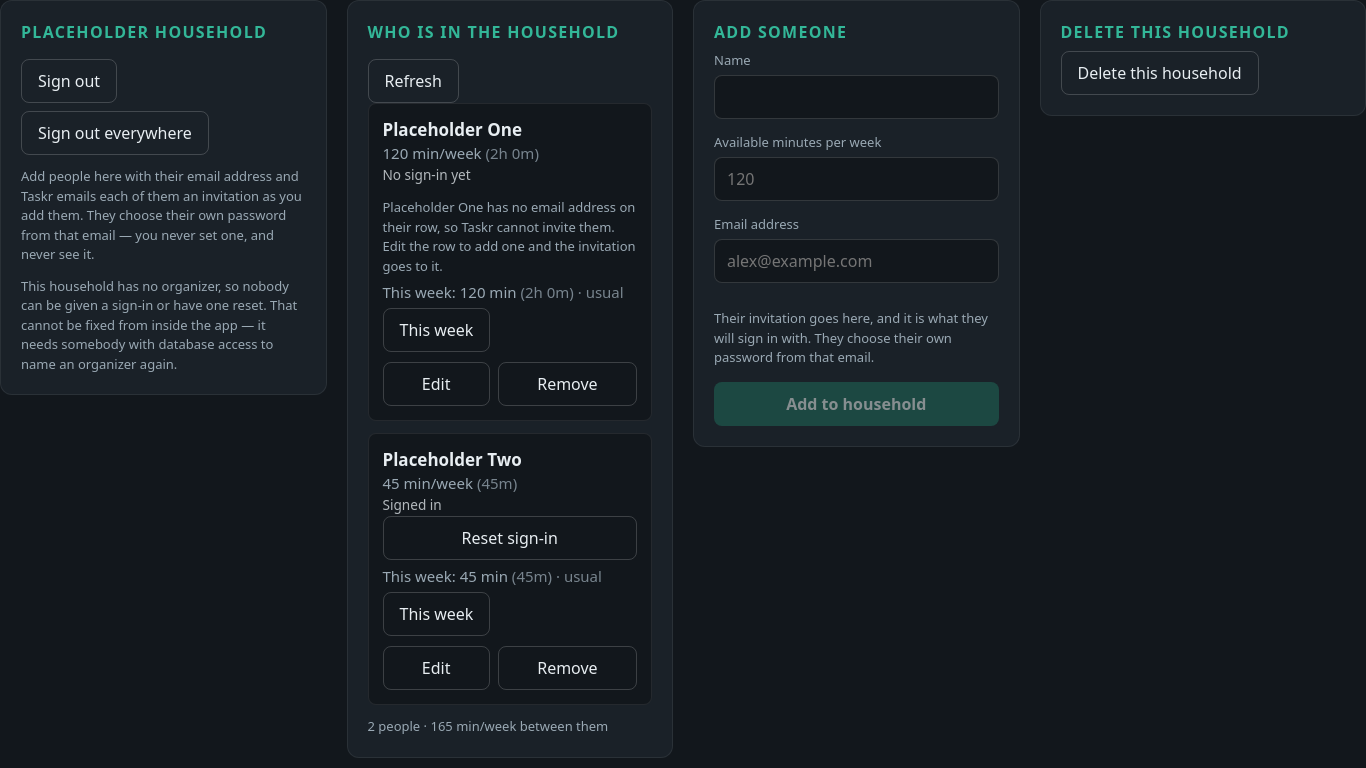
Test: deleting the household from the Who tab (#430) › backs out of the confirm without deleting
What coordinates should you click on to do the following:
click the button "Delete this household"
I would click on:
 (1160, 73)
Its box is [1060, 51, 1259, 95].
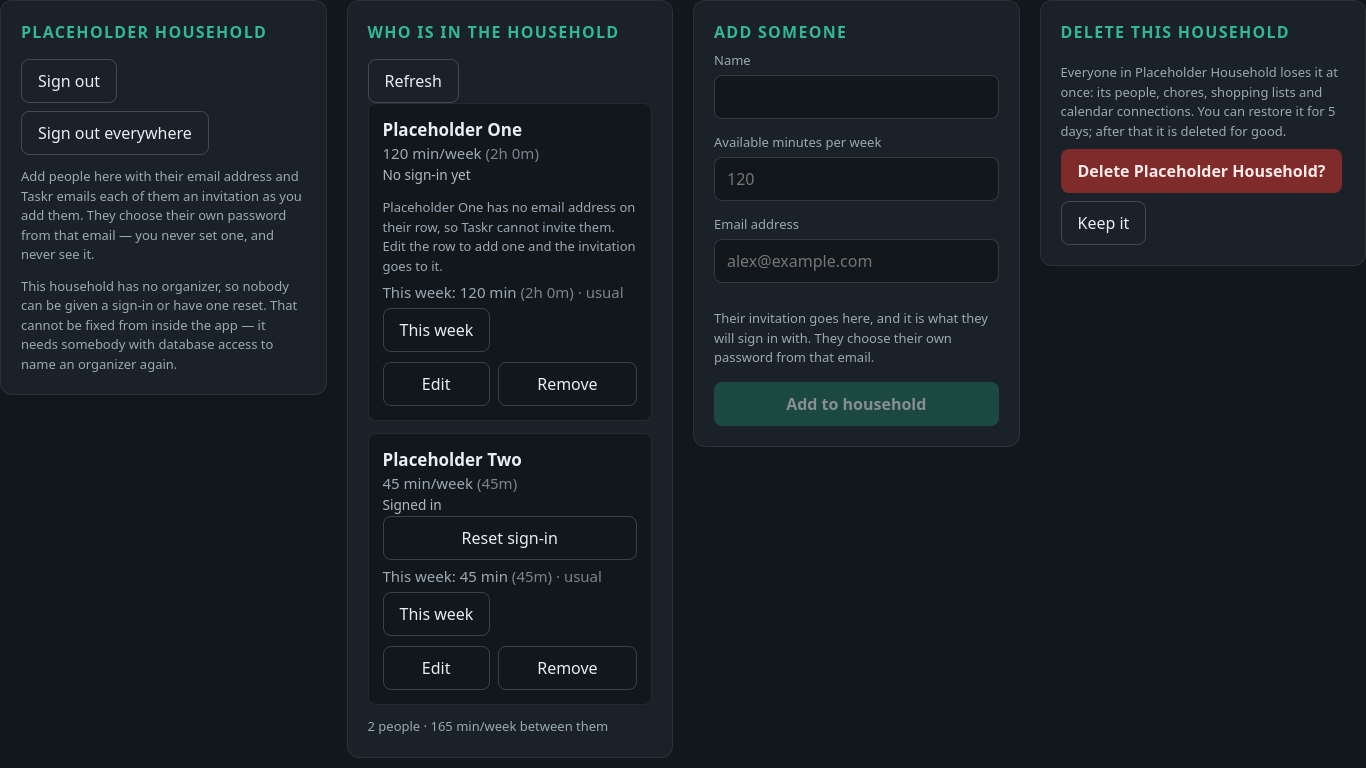
What coordinates should you click on to do the following:
click the button "Keep it"
I would click on:
 (1103, 223)
Its box is [1060, 201, 1146, 245].
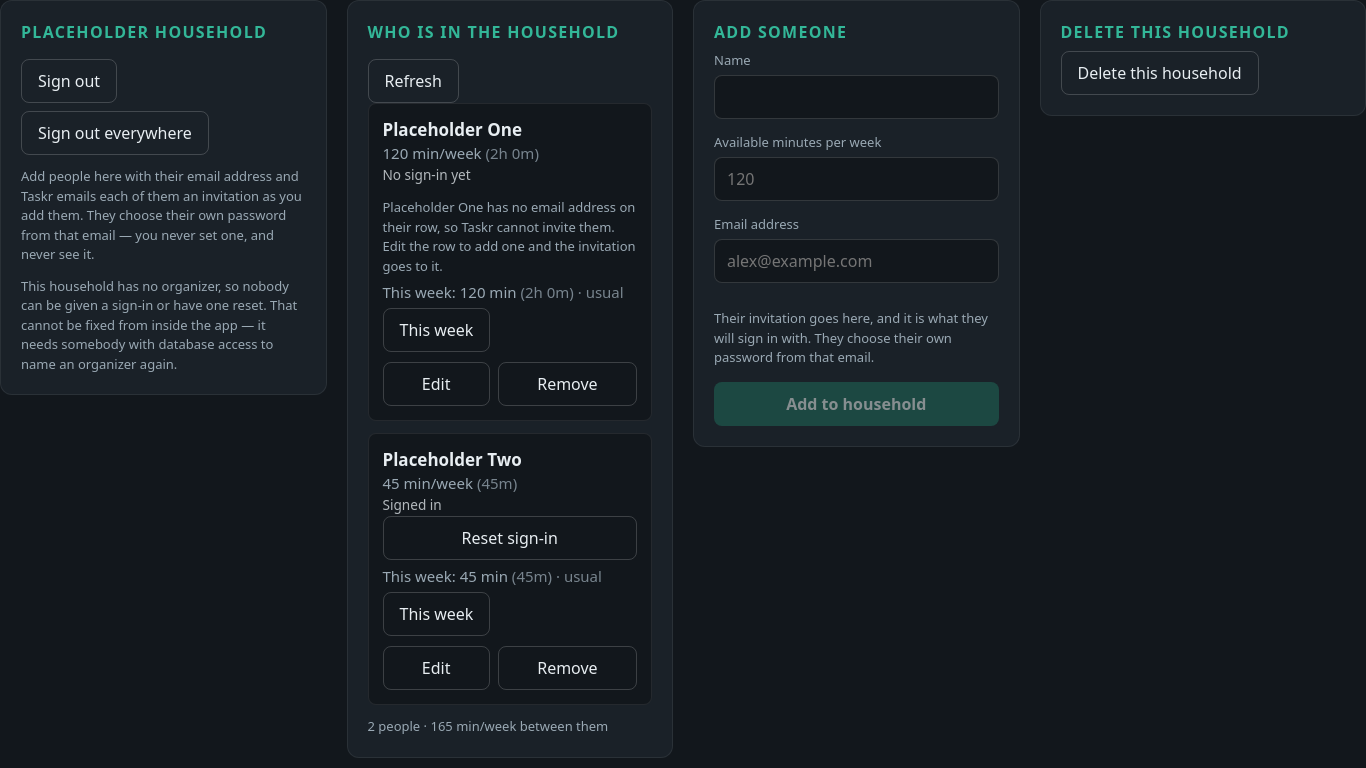
Now the button "Delete this household" is shown, box [1060, 51, 1259, 95]
